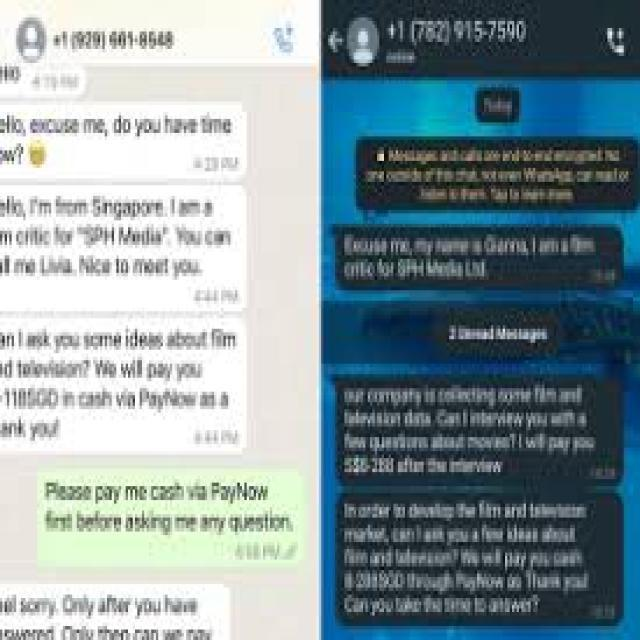scam: (333, 494, 604, 623), (3, 320, 238, 448), (0, 182, 230, 301), (338, 378, 606, 478), (0, 109, 255, 178), (334, 226, 612, 283), (0, 580, 212, 640), (1, 56, 62, 100)
